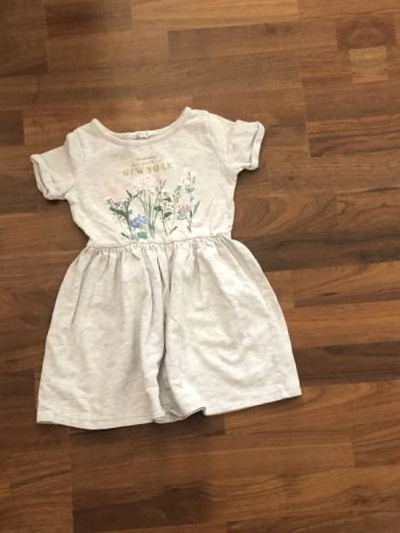Dress: (0, 67, 359, 455)
